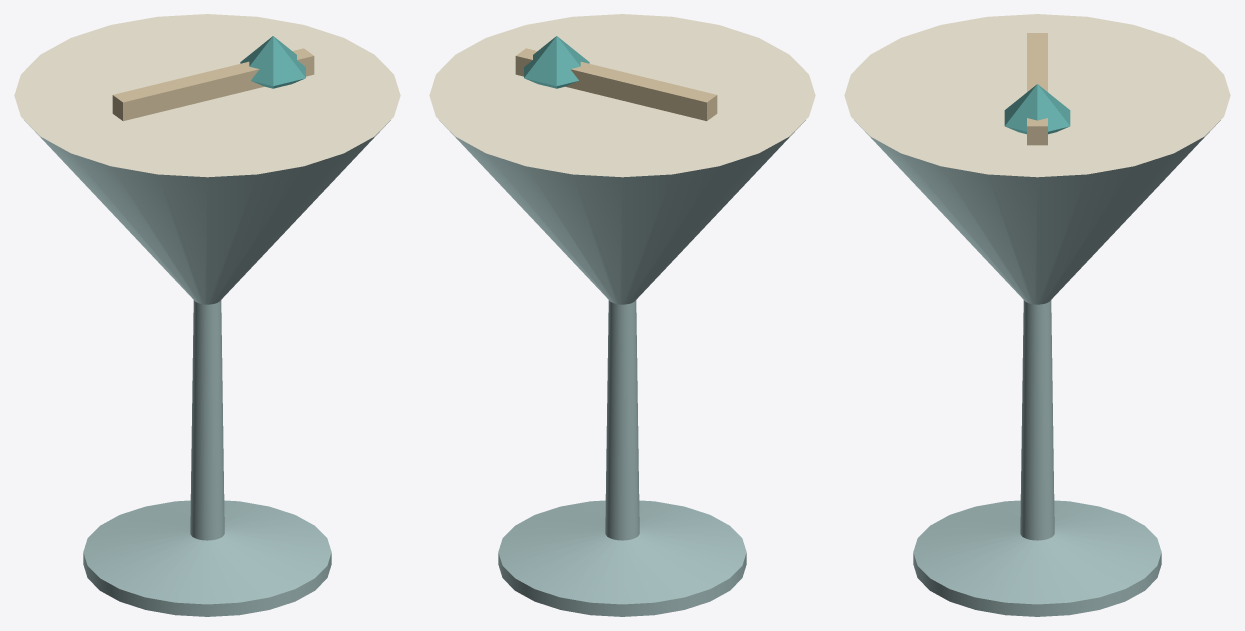
The model's file is KC32__AD_Int_Glass_Martini.glb.
3 views of the same model, side by side, from view 1: azimuth 30°, elevation 25°; view 2: azimuth 150°, elevation 25°; view 3: azimuth 270°, elevation 25° (orthographic).
Parts seen in each view (by area): view 1: KC32_VITRAGE__AD_Int_Glass_Martini, KC32_LUMIERE__AD_Int_Glass_Martini, KC32_BRONZE__AD_Int_Glass_Martini, KC32_CORPS__AD_Int_Glass_Martini; view 2: KC32_VITRAGE__AD_Int_Glass_Martini, KC32_LUMIERE__AD_Int_Glass_Martini, KC32_BRONZE__AD_Int_Glass_Martini, KC32_CORPS__AD_Int_Glass_Martini; view 3: KC32_VITRAGE__AD_Int_Glass_Martini, KC32_LUMIERE__AD_Int_Glass_Martini, KC32_CORPS__AD_Int_Glass_Martini, KC32_BRONZE__AD_Int_Glass_Martini.
Part boxes in pixels (<box>): KC32_VITRAGE__AD_Int_Glass_Martini: <box>24,120,390,616</box>; KC32_LUMIERE__AD_Int_Glass_Martini: <box>14,14,400,177</box>; KC32_BRONZE__AD_Int_Glass_Martini: <box>112,48,314,121</box>; KC32_CORPS__AD_Int_Glass_Martini: <box>240,36,305,88</box>; KC32_VITRAGE__AD_Int_Glass_Martini: <box>439,120,805,616</box>; KC32_LUMIERE__AD_Int_Glass_Martini: <box>429,14,815,177</box>; KC32_BRONZE__AD_Int_Glass_Martini: <box>515,48,717,121</box>; KC32_CORPS__AD_Int_Glass_Martini: <box>524,36,589,88</box>; KC32_VITRAGE__AD_Int_Glass_Martini: <box>854,120,1220,616</box>; KC32_LUMIERE__AD_Int_Glass_Martini: <box>844,14,1230,177</box>; KC32_CORPS__AD_Int_Glass_Martini: <box>1004,84,1070,134</box>; KC32_BRONZE__AD_Int_Glass_Martini: <box>1027,33,1047,145</box>.
Bounding box in the file's own units: 0.112 × 0.164 × 0.112.
